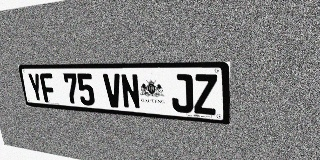5: (76, 73, 96, 106)
7: (62, 73, 81, 105)
F: (39, 73, 57, 103)
J: (170, 74, 193, 113)
N: (120, 74, 141, 109)
V: (103, 73, 123, 108)
Y: (27, 73, 44, 102)
Z: (193, 74, 217, 115)
